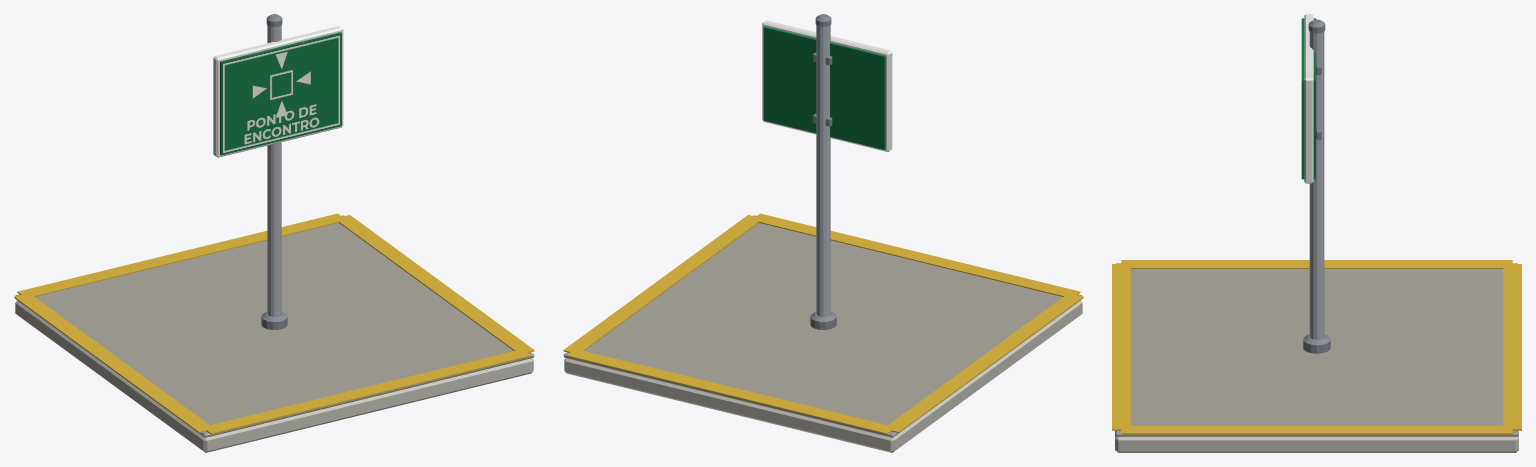
Rendered from Plataforma.fbx.
The picture shows the model from 3 angles, left to right: view 1: azimuth 30°, elevation 25°; view 2: azimuth 150°, elevation 25°; view 3: azimuth 270°, elevation 25°; orthographic projection. The views are drawn at different scales.
Visible parts, largest first — view 1: Plataforma, Placa, Poste; view 2: Plataforma, Placa, Poste; view 3: Plataforma, Poste, Placa.
Boxes of the visible parts, x1,y1,x2,y2 form: Plataforma: (14,213,534,452); Placa: (213,26,343,157); Poste: (261,14,287,329); Plataforma: (563,213,1083,452); Placa: (762,20,892,151); Poste: (810,14,836,329); Plataforma: (1112,260,1521,452); Poste: (1303,19,1330,353); Placa: (1301,14,1321,183).
Size of the model in its own units: 2.64 by 2.47 by 2.64.
Materials: 1 (1 with a texture image).
